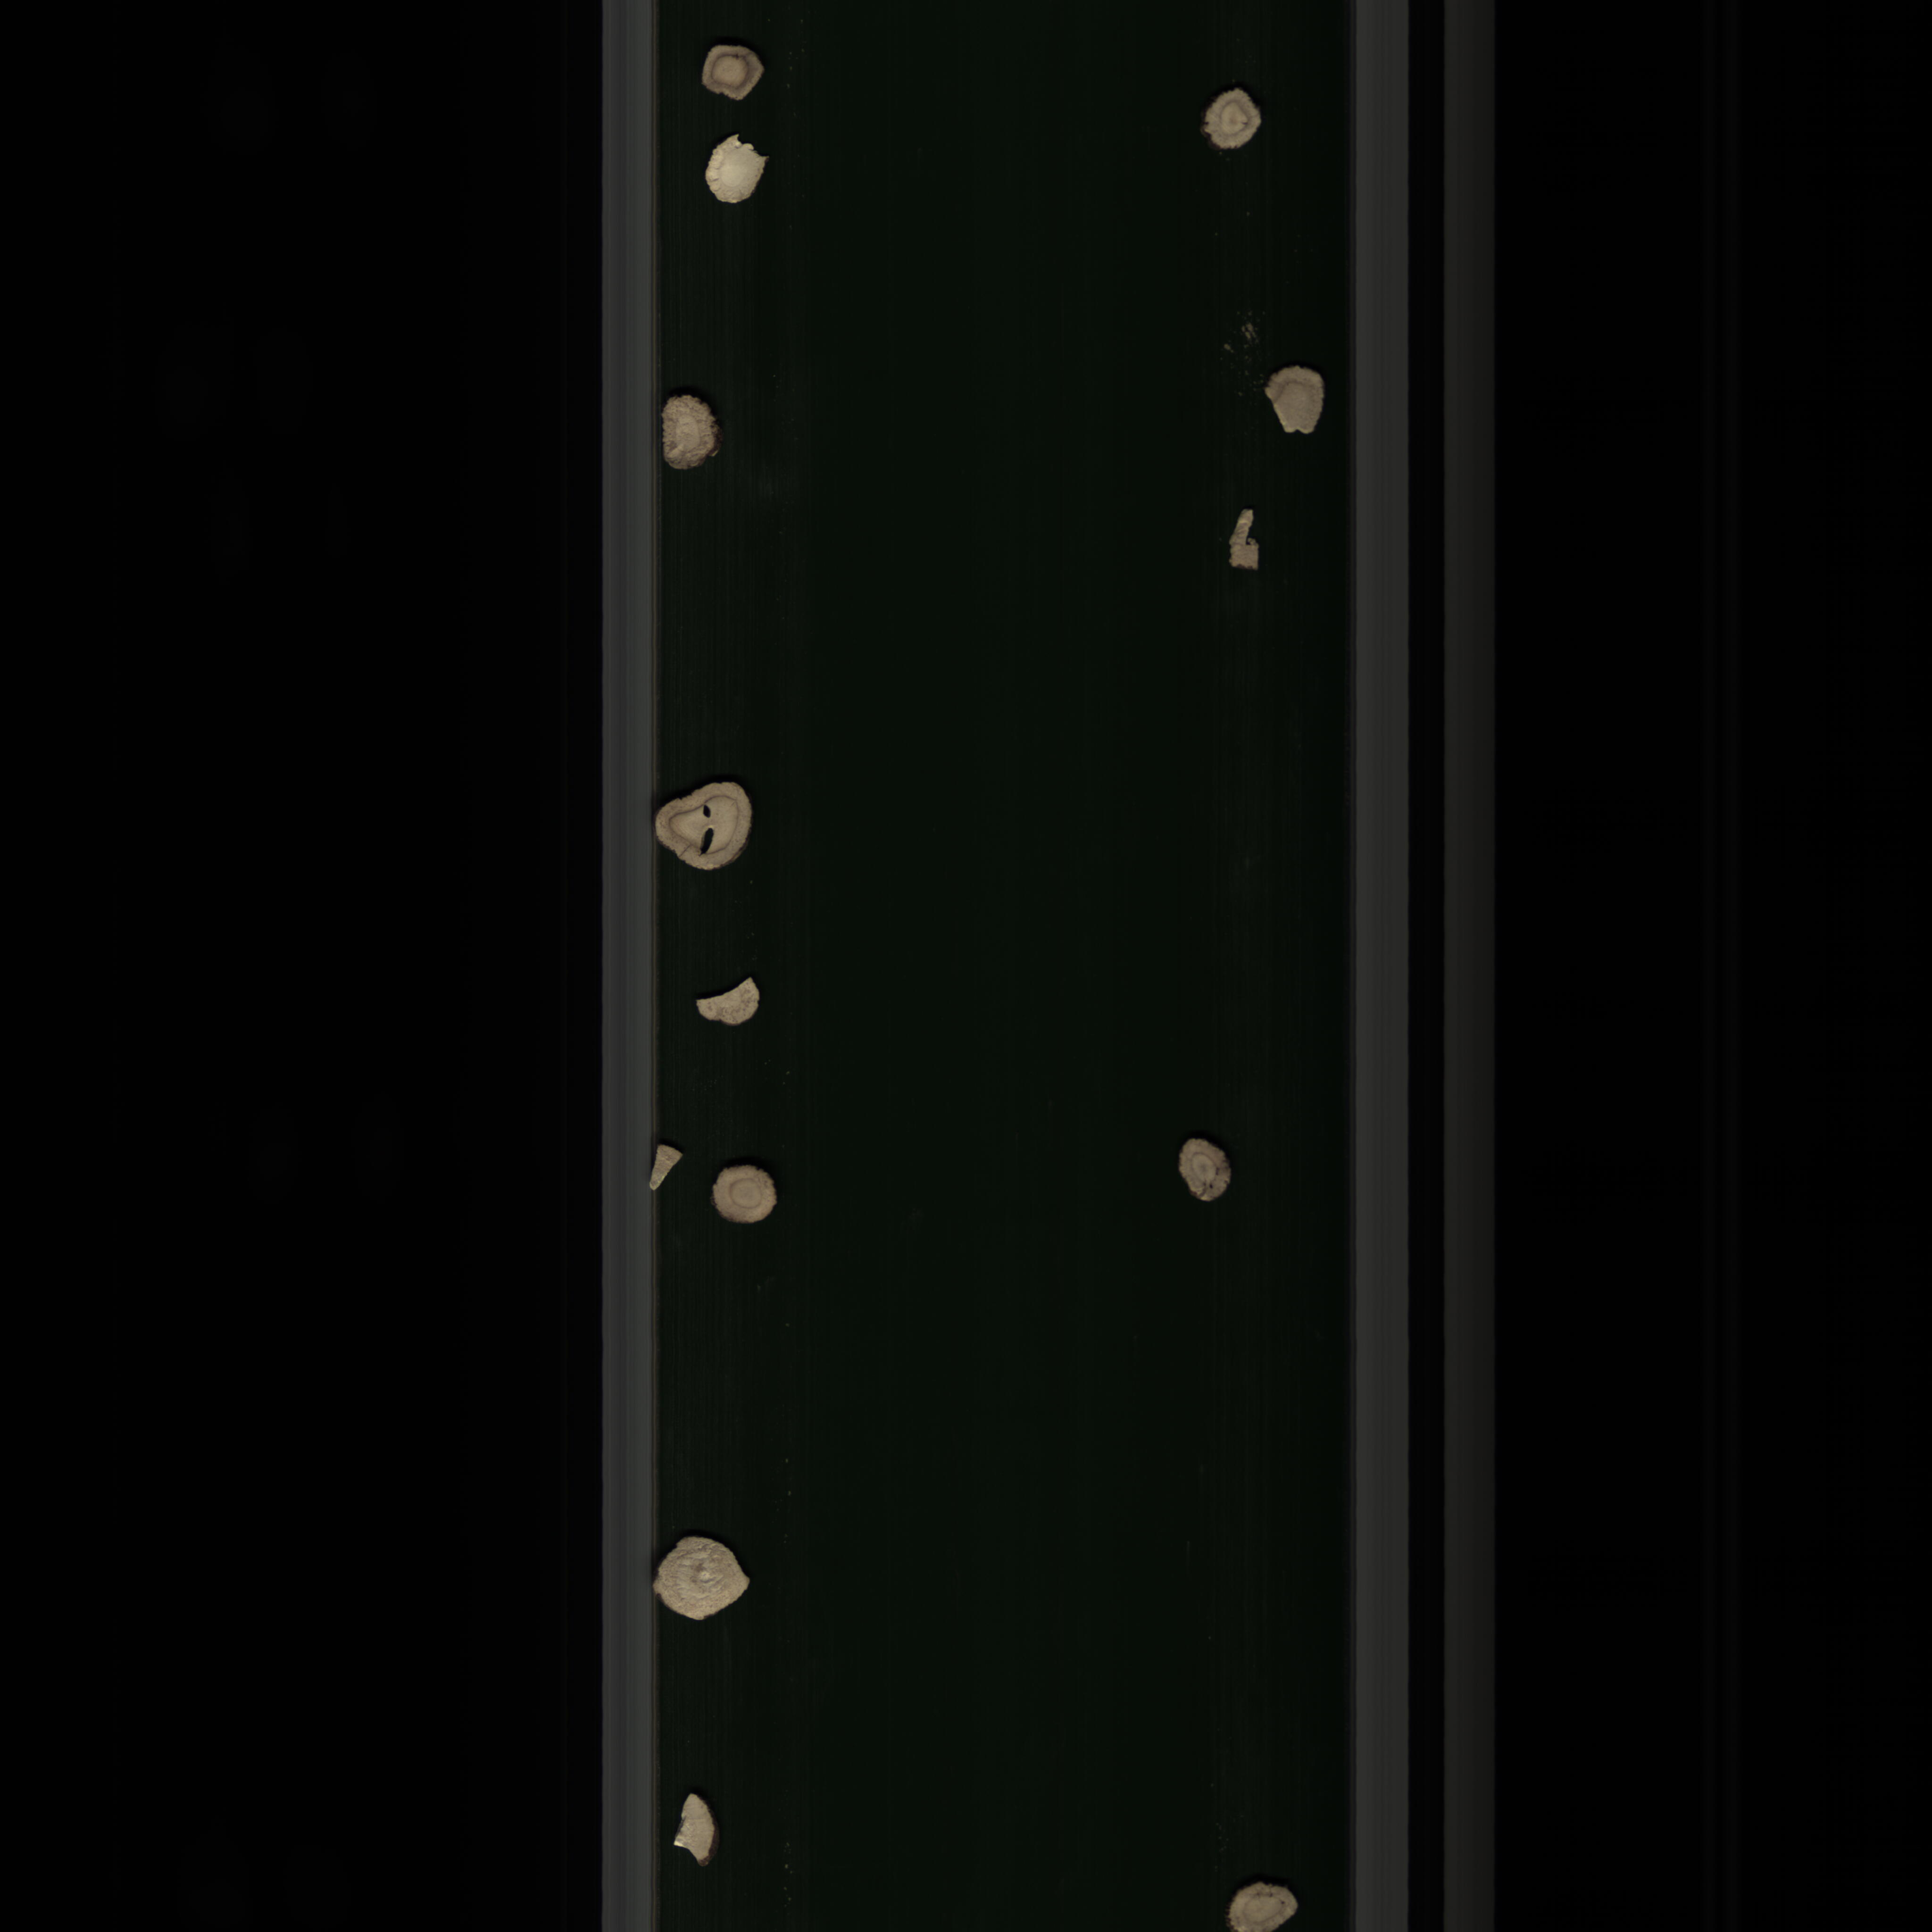debris: (701, 127, 773, 216), (1258, 357, 1327, 442), (665, 1790, 736, 1872), (690, 975, 770, 1030), (1224, 501, 1267, 586), (646, 1136, 683, 1200)
hole: (648, 770, 757, 878), (1175, 1138, 1242, 1214)
moldy: (658, 391, 725, 476), (1194, 88, 1272, 159), (690, 39, 770, 108)
